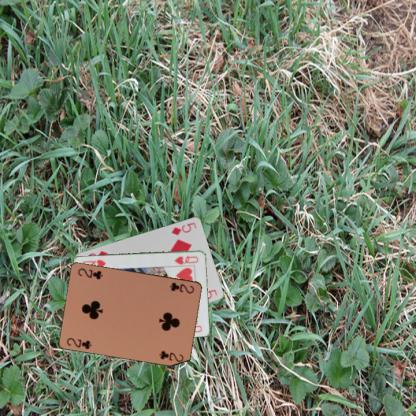2c: (64, 335, 93, 350), (168, 280, 195, 294)
5d: (168, 220, 198, 236)
Qh: (172, 252, 200, 266)
